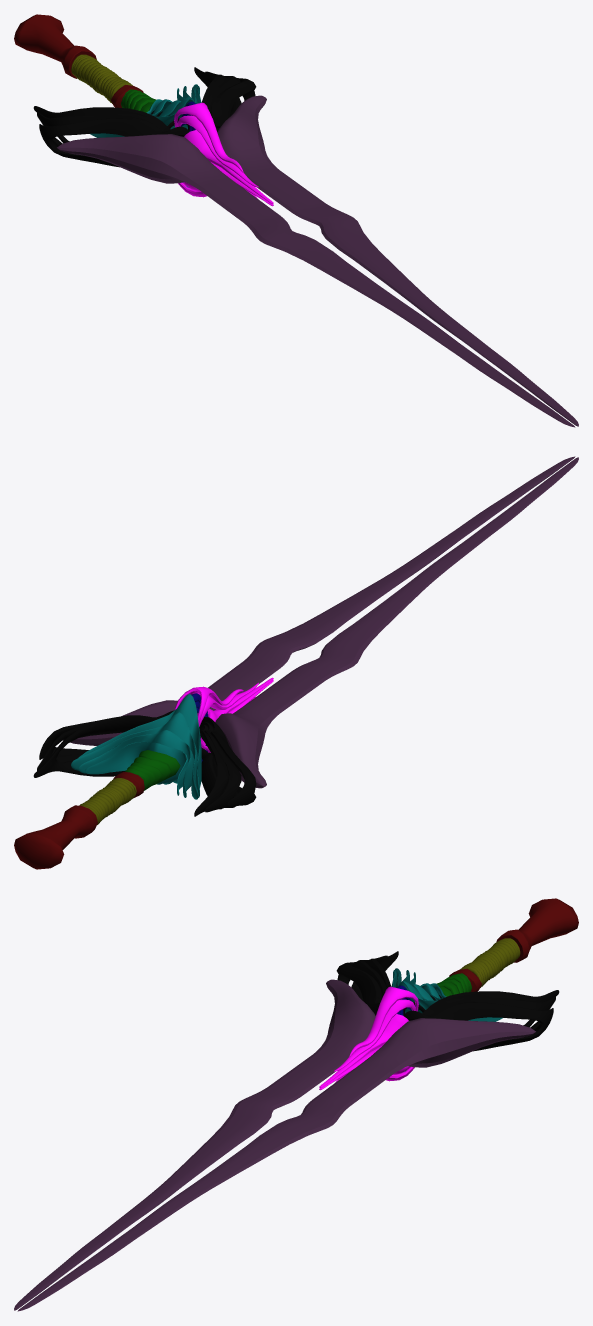
Rendered from Sword_LP.fbx.
The picture shows the model from 3 angles, top to bottom: view 1: azimuth 30°, elevation 25°; view 2: azimuth 150°, elevation 25°; view 3: azimuth 330°, elevation 25°; orthographic projection.
Parts seen in each view (by area): view 1: Blade_LP, Guard_LP, Handle_LP; view 2: Blade_LP, Guard_LP, Handle_LP; view 3: Blade_LP, Guard_LP, Handle_LP.
Boxes of the visible parts, bbox=[...] form: Blade_LP: bbox=[57, 95, 578, 427]; Guard_LP: bbox=[33, 67, 256, 187]; Handle_LP: bbox=[14, 14, 189, 130]; Blade_LP: bbox=[63, 456, 578, 788]; Guard_LP: bbox=[33, 693, 256, 816]; Handle_LP: bbox=[14, 750, 180, 869]; Blade_LP: bbox=[14, 979, 535, 1311]; Guard_LP: bbox=[336, 951, 559, 1071]; Handle_LP: bbox=[403, 898, 578, 1014].
Size of the model in its own units: 83.97 by 35.77 by 381.
